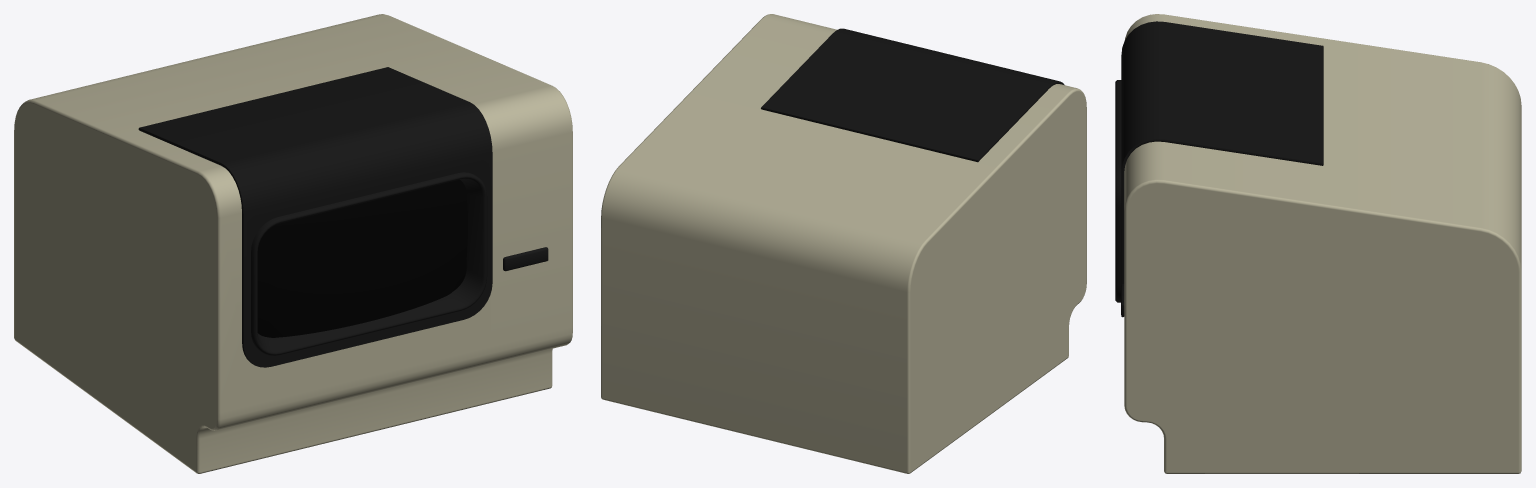
The model's file is Terminal.fbx.
3 renders of one model, left to right at view 1: azimuth 30°, elevation 25°; view 2: azimuth 150°, elevation 25°; view 3: azimuth 270°, elevation 25°, orthographic. The views are drawn at different scales.
Visible parts, largest first — view 1: PC, screen; view 2: PC; view 3: PC.
Boxes of the visible parts, x1=… form: PC: x1=14, y1=14, x2=572, y2=473; screen: x1=257, y1=179, x2=467, y2=337; PC: x1=601, y1=14, x2=1086, y2=473; PC: x1=1115, y1=14, x2=1521, y2=473.
Size of the model in its own units: 0.3 by 0.2475 by 0.3067.
